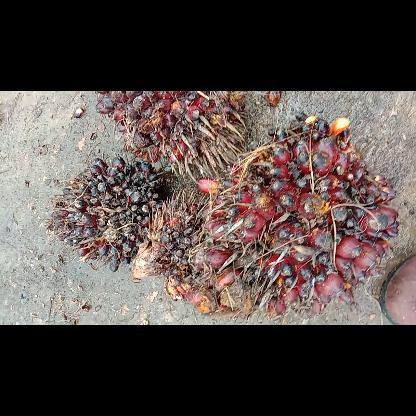Kurang masak: (186, 112, 398, 320)
TBS abnormal: (43, 156, 170, 270), (132, 188, 206, 298)
TBS masak: (96, 91, 248, 183)
